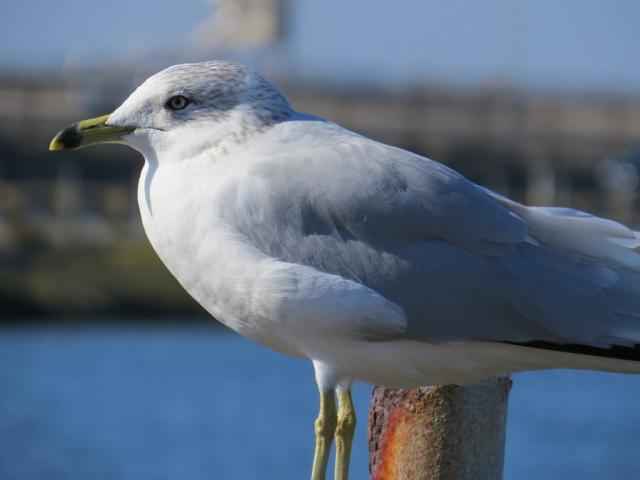Bird: (51, 56, 640, 479)
